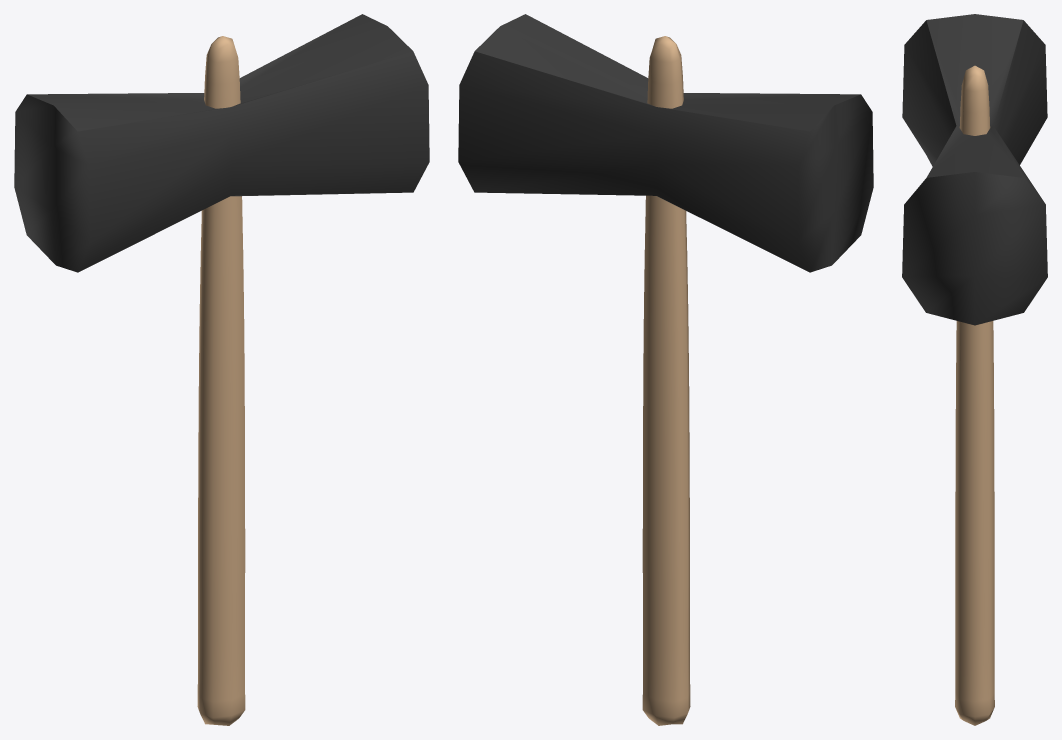
Rendered from hanma01.fbx.
3 views of the same model, side by side, from view 1: azimuth 30°, elevation 25°; view 2: azimuth 150°, elevation 25°; view 3: azimuth 270°, elevation 25° (orthographic). The views are drawn at different scales.
Parts seen in each view (by area): view 1: pCube1; view 2: pCube1; view 3: pCube1.
Boxes of the visible parts, x1,y1,x2,y2 form: pCube1: (14, 14, 429, 725); pCube1: (458, 14, 873, 725); pCube1: (902, 14, 1047, 725).
Size of the model in its own units: 289 by 553 by 111.
1 material, 1 textured.
